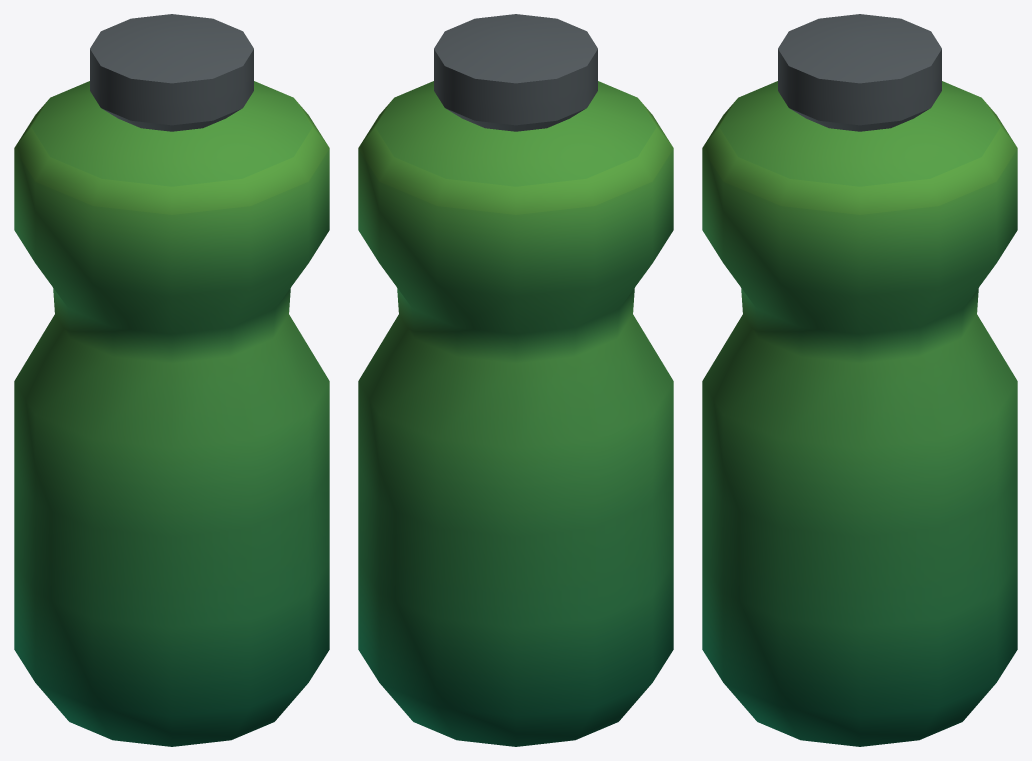
Rendered from prop_waterbottle.glb.
The picture shows the model from 3 angles, left to right: view 1: azimuth 30°, elevation 25°; view 2: azimuth 150°, elevation 25°; view 3: azimuth 270°, elevation 25°; orthographic projection.
Parts seen in each view (by area): view 1: Waterbottle; view 2: Waterbottle; view 3: Waterbottle.
Boxes of the visible parts, x1,y1,x2,y2 form: Waterbottle: (14,14,329,746); Waterbottle: (358,14,673,746); Waterbottle: (702,14,1017,746).
Bounding box in the file's own units: 0.1877 × 0.4318 × 0.1877.
Materials: 1 (1 with a texture image).
